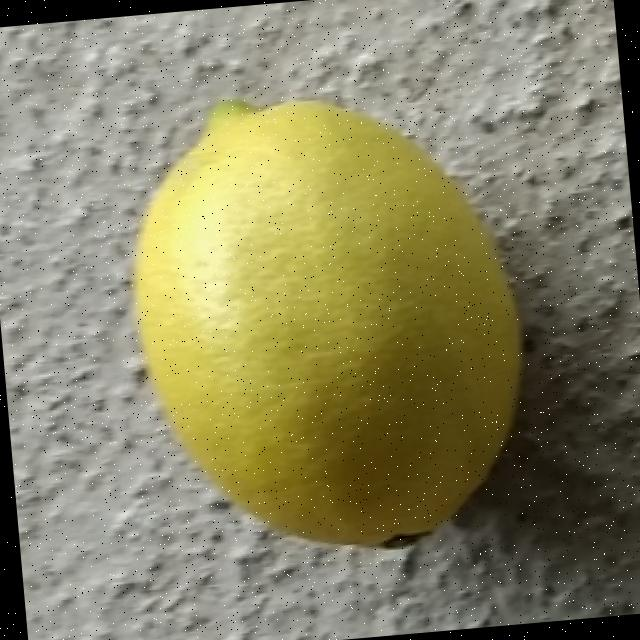Ripe: (107, 66, 540, 572)
